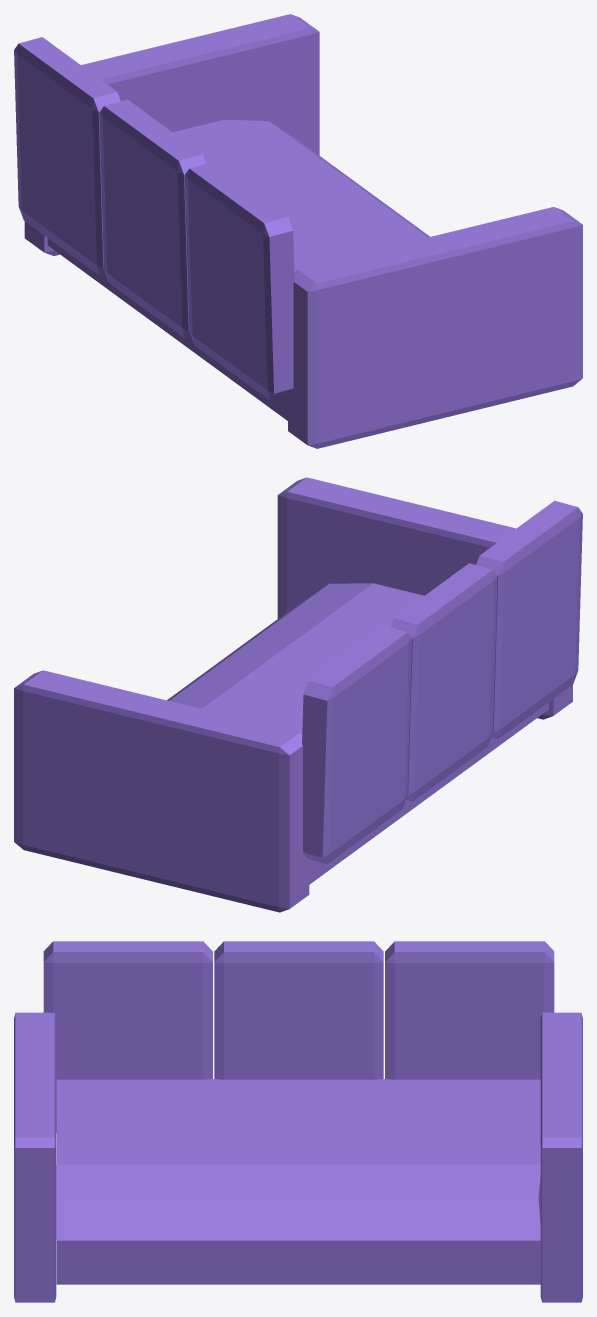
The model's file is NEWCOUCH.fbx.
The picture shows the model from 3 angles, top to bottom: view 1: azimuth 30°, elevation 25°; view 2: azimuth 150°, elevation 25°; view 3: azimuth 270°, elevation 25°; orthographic projection.
Visible parts, largest first — view 1: sides, back, seat; view 2: sides, back, seat; view 3: seat, back, sides.
Boxes of the visible parts, bbox=[...] form: sides: bbox=[24, 14, 582, 448]; back: bbox=[14, 37, 294, 400]; seat: bbox=[47, 119, 429, 420]; sides: bbox=[14, 477, 572, 912]; back: bbox=[302, 500, 582, 864]; seat: bbox=[167, 583, 548, 884]; seat: bbox=[56, 1079, 540, 1284]; back: bbox=[43, 941, 554, 1132]; sides: bbox=[14, 1012, 582, 1302].
Bounding box in the file's own units: 226 × 158 × 369.
